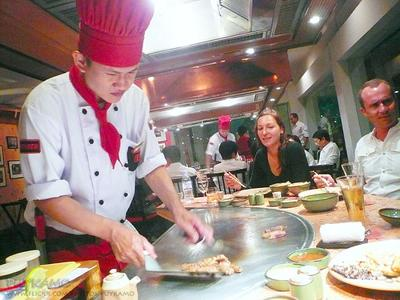person: (19, 13, 207, 276)
